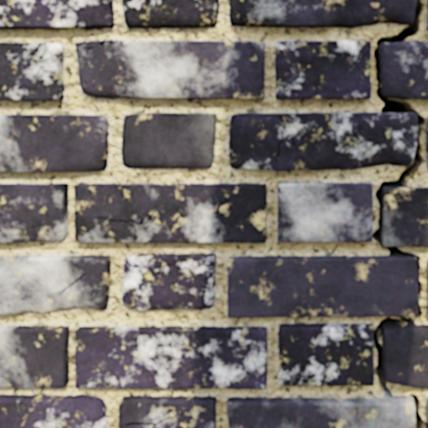brick: (75, 326, 267, 388), (228, 256, 416, 317), (74, 183, 266, 242), (229, 112, 416, 170), (75, 41, 264, 98), (0, 255, 110, 314), (0, 115, 108, 171), (279, 323, 373, 385), (227, 397, 414, 427), (277, 183, 372, 241), (275, 41, 370, 98), (122, 253, 215, 309), (122, 113, 215, 168), (230, 0, 415, 27), (0, 326, 69, 387), (0, 183, 67, 242), (0, 42, 64, 99), (0, 395, 107, 427), (0, 0, 113, 28), (119, 396, 215, 427), (382, 325, 427, 387), (381, 41, 427, 98), (122, 0, 218, 27), (383, 188, 427, 246), (426, 117, 427, 167), (426, 397, 427, 422)
crack: (371, 0, 427, 427), (274, 113, 299, 164), (124, 411, 184, 427), (83, 38, 125, 49), (277, 183, 282, 194), (260, 355, 266, 358)
